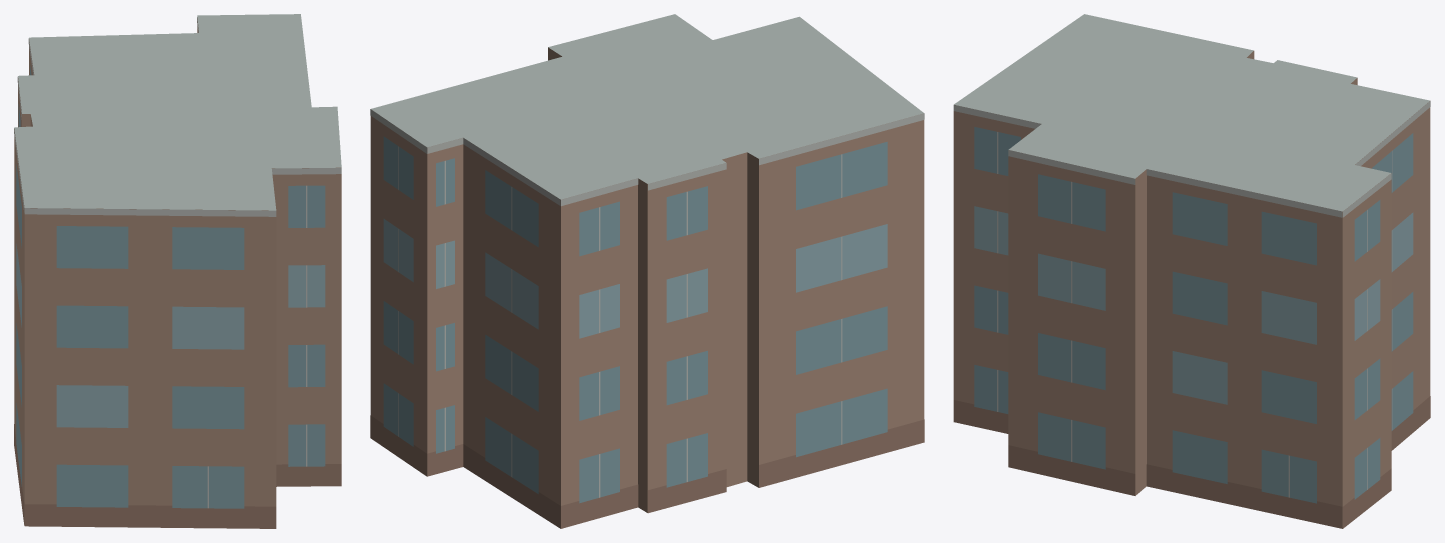
The model's file is survey-upis-32756175.glb.
3 views of the same model, side by side, from view 1: azimuth 30°, elevation 25°; view 2: azimuth 150°, elevation 25°; view 3: azimuth 270°, elevation 25° (orthographic). The views are drawn at different scales.
Parts seen in each view (by area): view 1: survey-upis-32756175.tmp; view 2: survey-upis-32756175.tmp; view 3: survey-upis-32756175.tmp.
Part boxes in pixels (<box>): survey-upis-32756175.tmp: <box>14,14,341,528</box>; survey-upis-32756175.tmp: <box>370,14,924,528</box>; survey-upis-32756175.tmp: <box>953,14,1430,528</box>.
Bounding box in the file's own units: 16.29 × 12.2 × 16.62.
